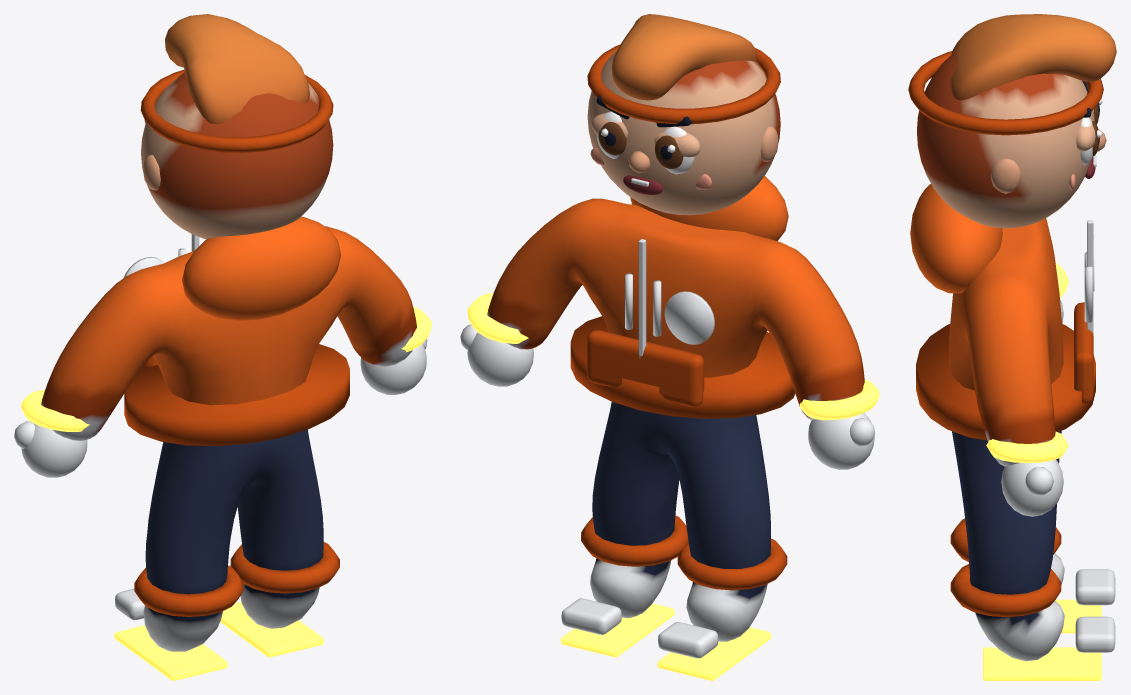
The model's file is avatar_orange.glb.
3 renders of one model, left to right at view 1: azimuth 30°, elevation 25°; view 2: azimuth 150°, elevation 25°; view 3: azimuth 270°, elevation 25°, orthographic.
Visible parts, largest first — view 1: Corps, H_Tete, Capuche, Ourlet, H_Cheveux, H_Bandeau, Revers-1, Revers1, Semelle-1, Semelle1, Gant-1, Gant1 (+3 smaller); view 2: Corps, H_Tete, Ourlet, H_Cheveux, Poche, H_Bandeau, Capuche, Revers-1, Revers1, Semelle1, Semelle-1, Gant1 (+7 smaller); view 3: Corps, H_Tete, H_Cheveux, Ourlet, Capuche, H_Bandeau, Semelle1, Revers1, Gant1, Poche, Poignet1, Bout1 (+8 smaller).
Part boxes in pixels (bbox=[...]): Corps: bbox=[41, 226, 416, 651]; H_Tete: bbox=[141, 72, 333, 239]; Capuche: bbox=[182, 216, 341, 320]; Ourlet: bbox=[124, 344, 349, 445]; H_Cheveux: bbox=[165, 14, 309, 124]; H_Bandeau: bbox=[140, 70, 333, 152]; Revers-1: bbox=[134, 565, 243, 616]; Revers1: bbox=[230, 542, 339, 593]; Semelle-1: bbox=[114, 625, 227, 680]; Semelle1: bbox=[220, 602, 323, 657]; Gant-1: bbox=[21, 423, 87, 477]; Gant1: bbox=[360, 344, 426, 394]; Corps: bbox=[487, 198, 864, 641]; H_Tete: bbox=[587, 50, 780, 215]; Ourlet: bbox=[570, 316, 795, 418]; H_Cheveux: bbox=[611, 14, 757, 100]; Poche: bbox=[586, 330, 704, 407]; H_Bandeau: bbox=[587, 44, 780, 124]; Capuche: bbox=[630, 176, 788, 240]; Revers-1: bbox=[677, 538, 787, 590]; Revers1: bbox=[581, 515, 688, 566]; Semelle1: bbox=[561, 603, 674, 657]; Semelle-1: bbox=[657, 627, 771, 680]; Gant1: bbox=[467, 332, 533, 386]; Corps: bbox=[949, 218, 1064, 661]; H_Tete: bbox=[917, 54, 1094, 228]; H_Cheveux: bbox=[951, 14, 1116, 100]; Ourlet: bbox=[916, 324, 1095, 440]; Capuche: bbox=[910, 184, 1002, 293]; H_Bandeau: bbox=[908, 51, 1103, 135]; Semelle1: bbox=[983, 647, 1101, 680]; Revers1: bbox=[950, 564, 1061, 617]; Gant1: bbox=[1001, 459, 1063, 516]; Poche: bbox=[1074, 302, 1093, 403]; Poignet1: bbox=[986, 431, 1068, 463]; Bout1: bbox=[1075, 616, 1115, 652].
Size of the model in its own units: 1.45 by 2.08 by 0.6306.
